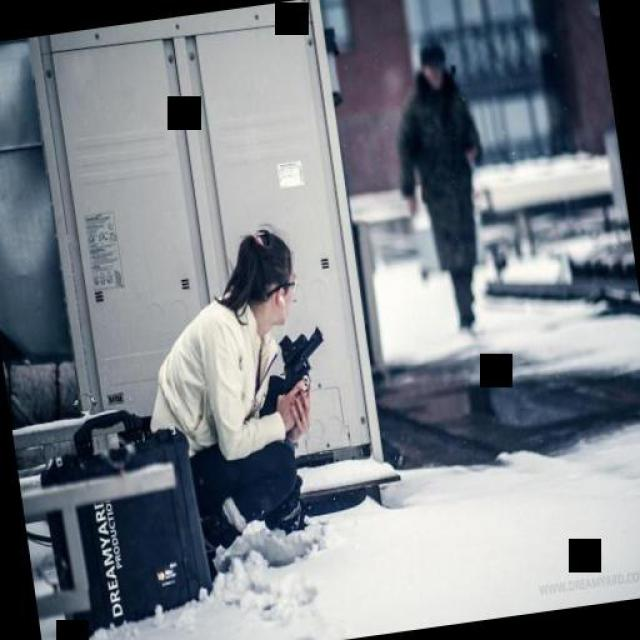gun: (272, 320, 332, 401)
